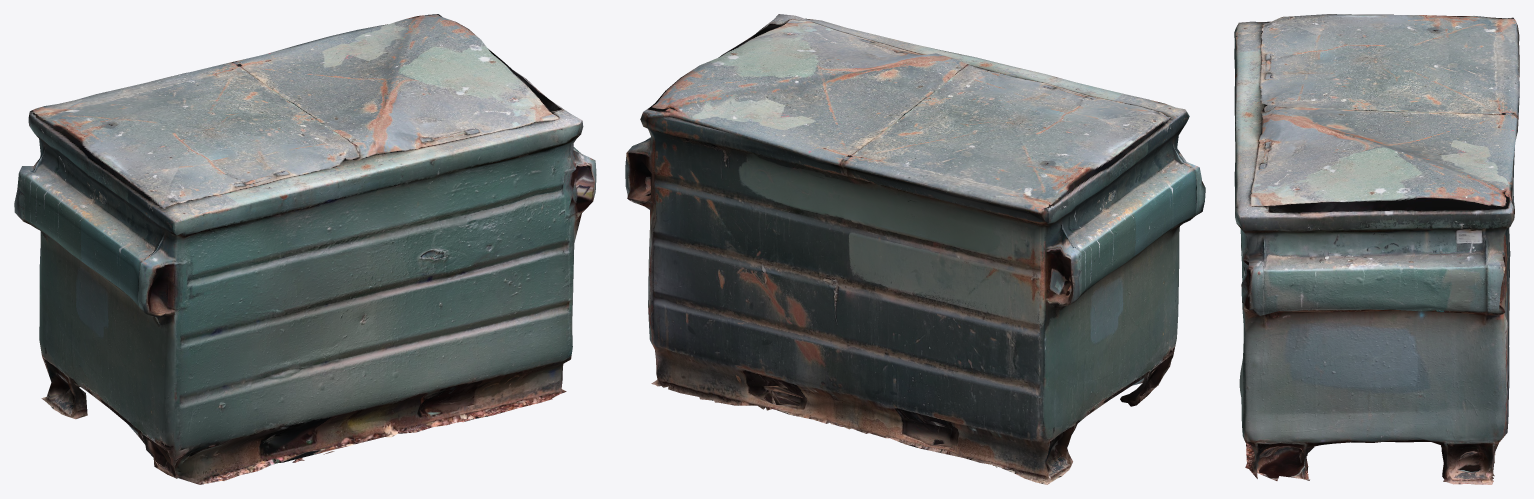
3 views of the same model, side by side, from view 1: azimuth 30°, elevation 25°; view 2: azimuth 150°, elevation 25°; view 3: azimuth 270°, elevation 25° (orthographic). The views are drawn at different scales.
Parts seen in each view (by area): view 1: Dumpster; view 2: Dumpster; view 3: Dumpster.
Boxes of the visible parts, x1,y1,x2,y2 form: Dumpster: (14, 14, 596, 484); Dumpster: (625, 14, 1205, 484); Dumpster: (1234, 14, 1519, 484).
Bounding box in the file's own units: 331 × 209 × 187.
